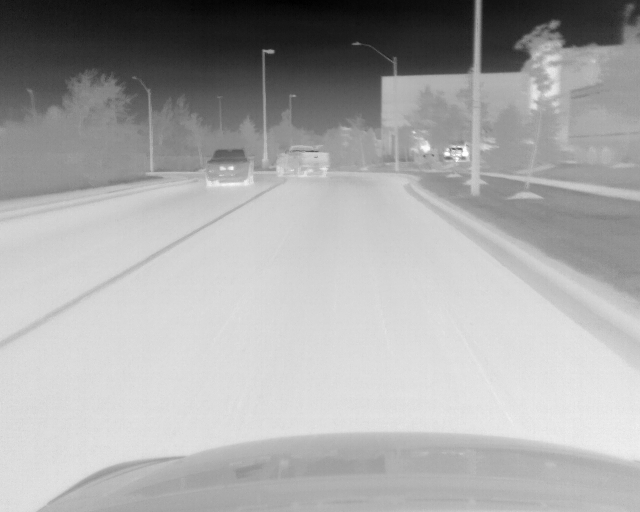car: (275, 143, 329, 181), (206, 148, 254, 186)
